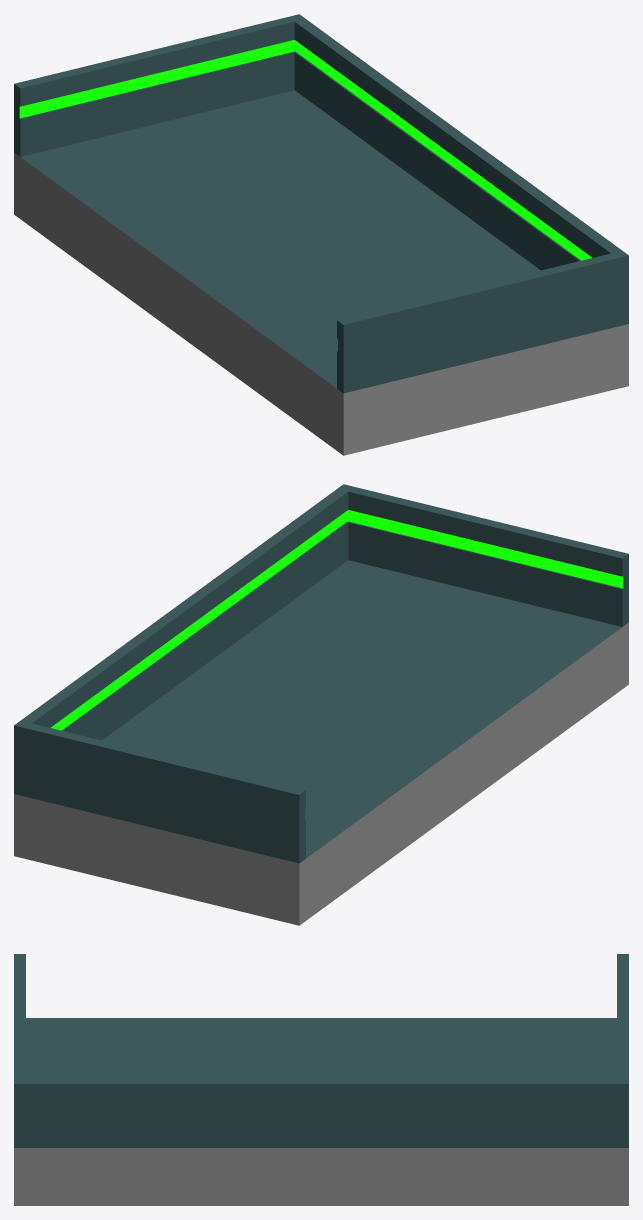
Rendered from Stairs_03_Platform_B.FBX.
3 renders of one model, top to bottom at view 1: azimuth 30°, elevation 25°; view 2: azimuth 150°, elevation 25°; view 3: azimuth 270°, elevation 25°, orthographic. The views are drawn at different scales.
Visible parts, largest first — view 1: Stairs_03_Platform_B_LOD0; view 2: Stairs_03_Platform_B_LOD0; view 3: Stairs_03_Platform_B_LOD0.
Boxes of the visible parts, bbox=[...] form: Stairs_03_Platform_B_LOD0: bbox=[14, 14, 628, 455]; Stairs_03_Platform_B_LOD0: bbox=[14, 484, 628, 925]; Stairs_03_Platform_B_LOD0: bbox=[14, 954, 628, 1205].
Size of what is drawn, in the model's own units: 180 by 78.78 by 360.
